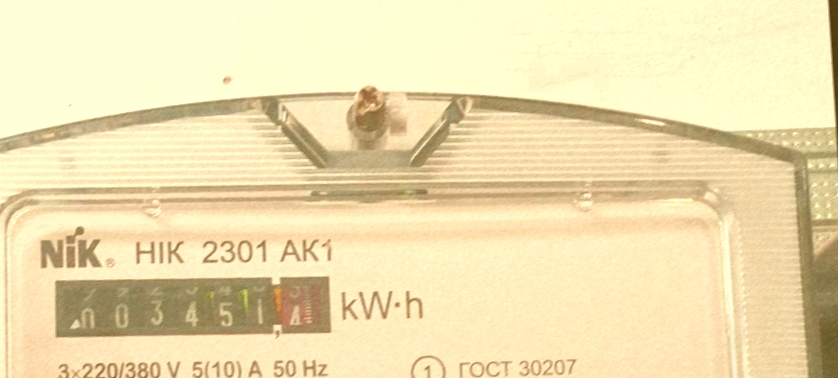0: (76, 303, 97, 331), (111, 301, 131, 330)
1: (250, 294, 268, 326)
3: (145, 295, 166, 328)
4: (179, 297, 201, 330), (283, 301, 305, 330)
5: (215, 297, 234, 329)
screen: (45, 258, 338, 358)
